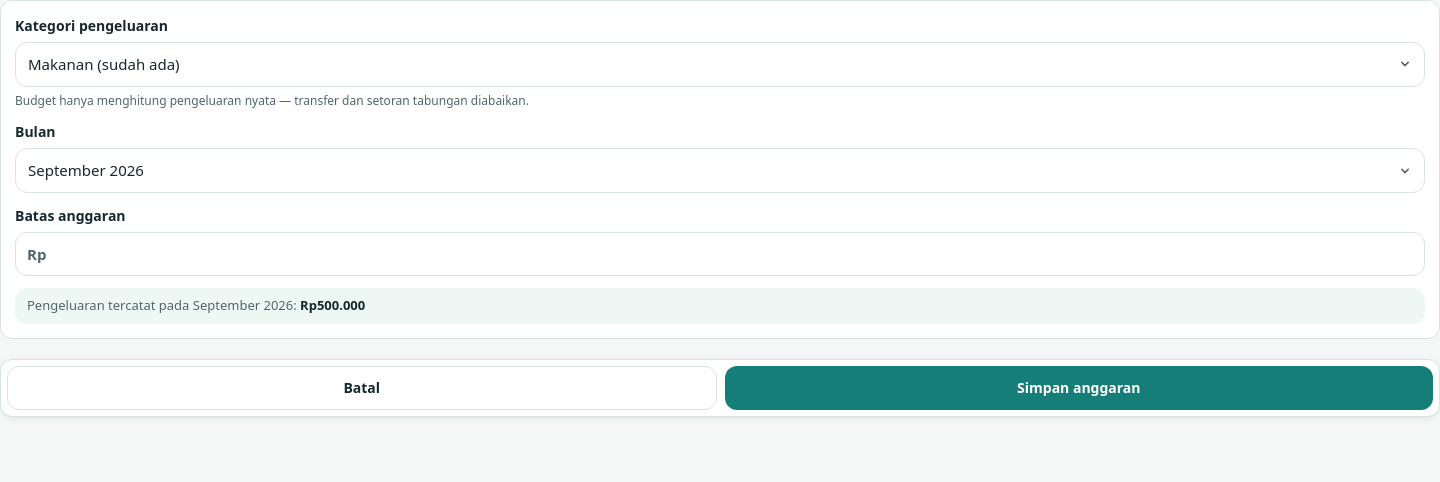
Test: Budgets UX — Create Budget Flow › displays duplicate validation error when attempting to create an already existing category budget
Type "600000" into the field labelled "Batas anggaran" at (720, 254), box x1=15 y1=232 x2=1425 y2=276
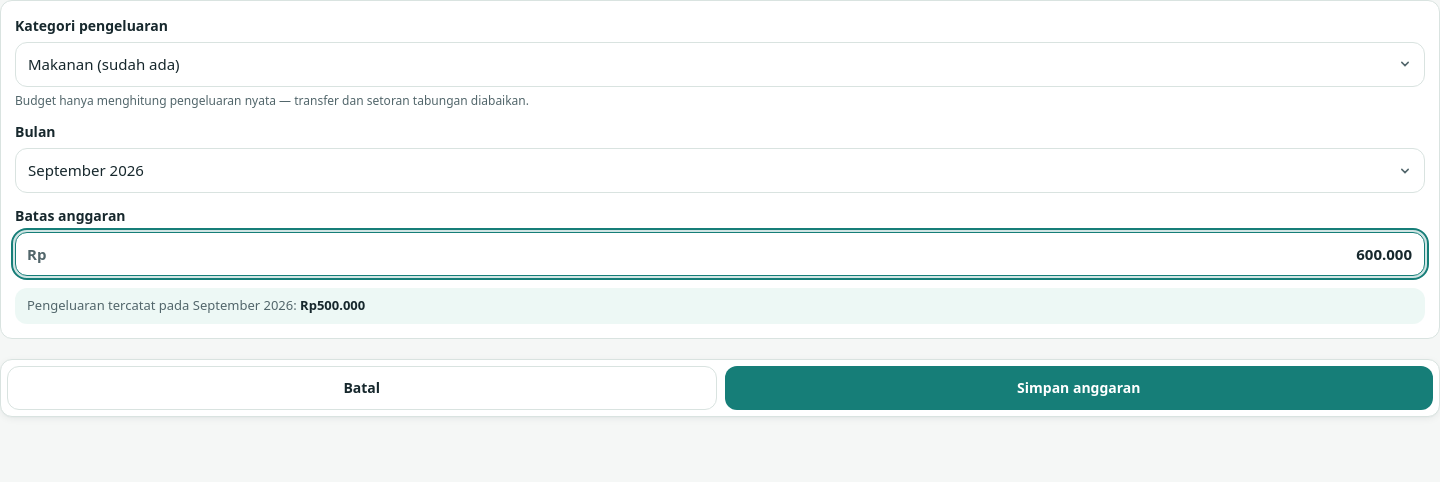
Click the button "Simpan anggaran" at (1079, 388), box x1=724 y1=366 x2=1433 y2=410
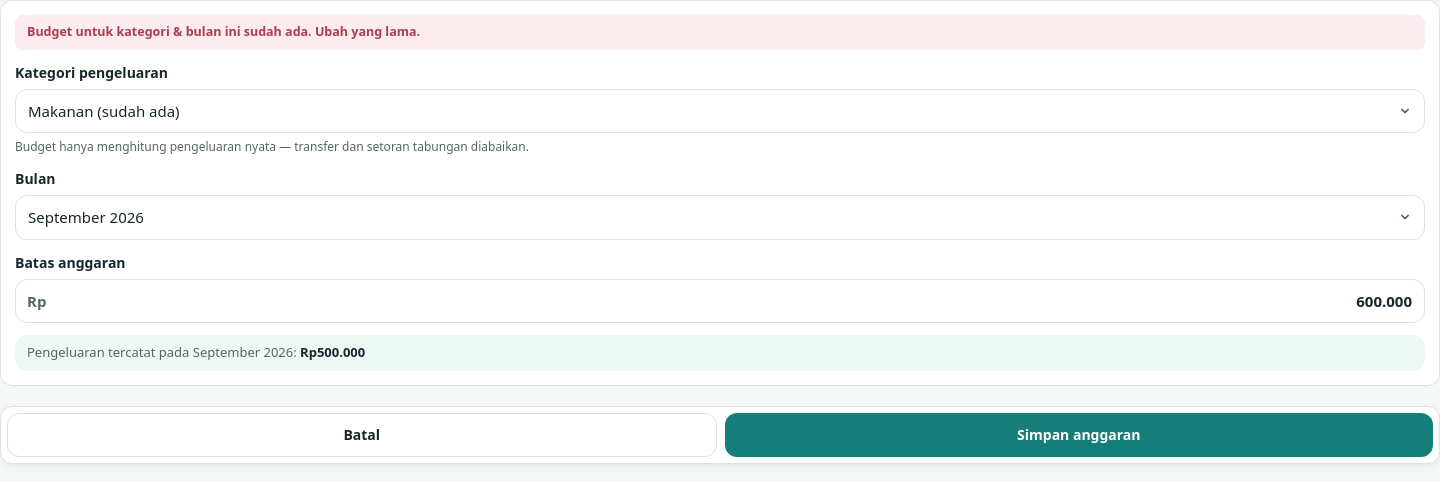
Check: the message reads "Budget untuk kategori & bulan ini sudah ada. Ubah yang lama.", box x1=27 y1=23 x2=420 y2=40
